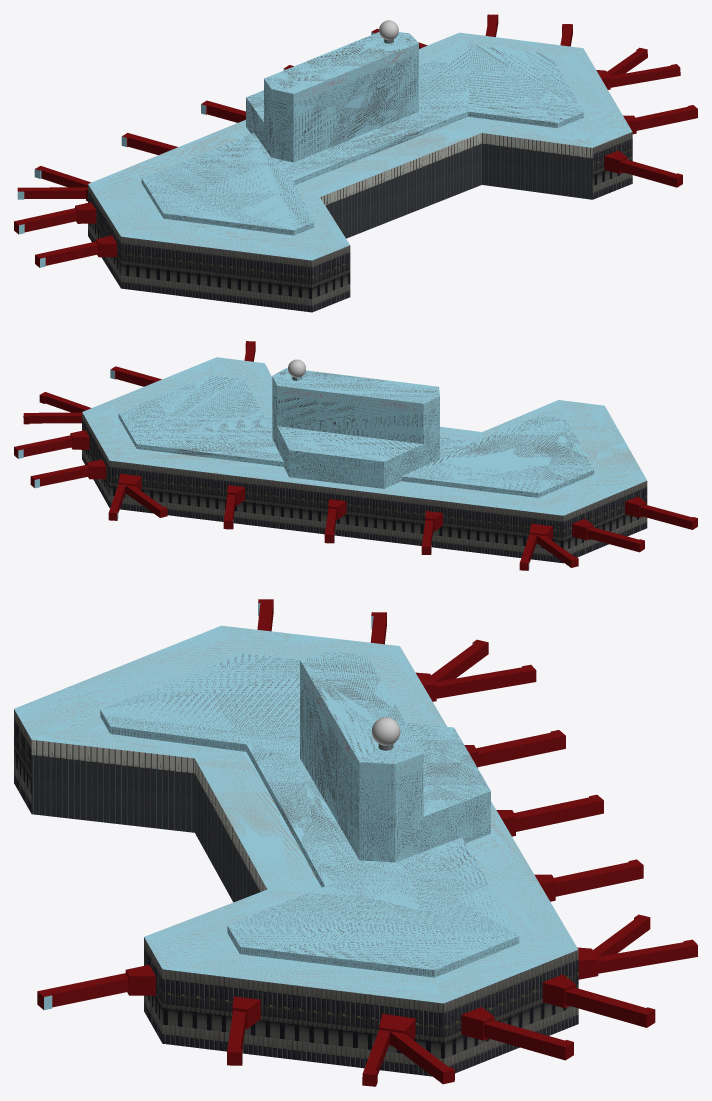
The model's file is Terminal_F.fbx.
The picture shows the model from 3 angles, top to bottom: view 1: azimuth 30°, elevation 25°; view 2: azimuth 150°, elevation 25°; view 3: azimuth 270°, elevation 25°; orthographic projection. The views are drawn at different scales.
Visible parts, largest first — view 1: Model; view 2: Model; view 3: Model.
Part boxes in pixels (x1,y1,x2,y2): Model: (14, 14, 697, 312); Model: (14, 341, 697, 570); Model: (14, 599, 697, 1086).
Size of the model in its own units: 369 by 75.95 by 225.
Materials: 37 (37 with a texture image).
